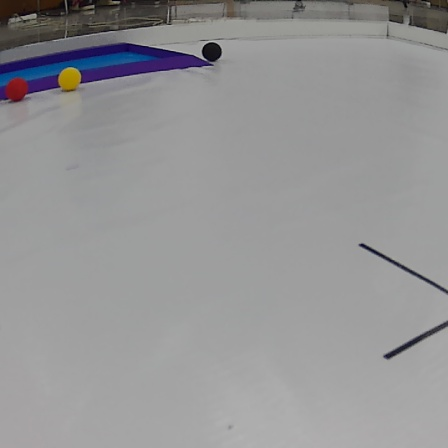black: (201, 39, 225, 63)
blue_aim: (0, 39, 201, 98)
red: (7, 79, 27, 101)
yellow: (58, 68, 81, 90)
